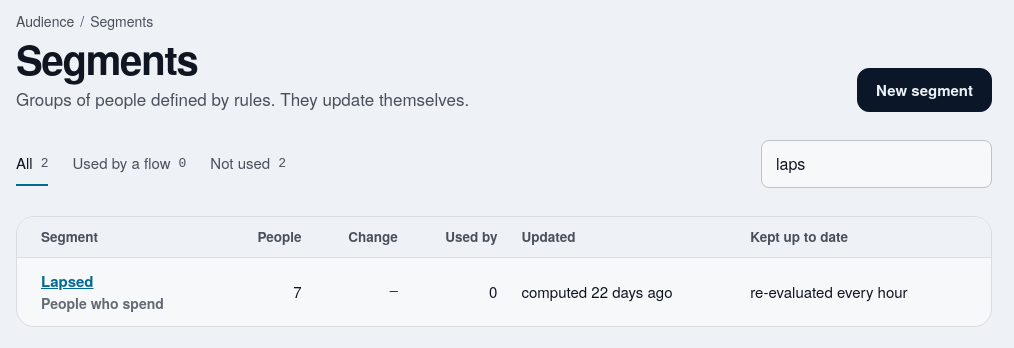
it: segments list › filters by the search term in the URL and says when nothing matches
Expected: the number of rows is 2, left=17, top=217, right=991, bottom=257; left=17, top=258, right=991, bottom=326
Step 1. Replace the text in the search field named "Search segments" with "zzz" → (876, 164), box left=761, top=140, right=992, bottom=188
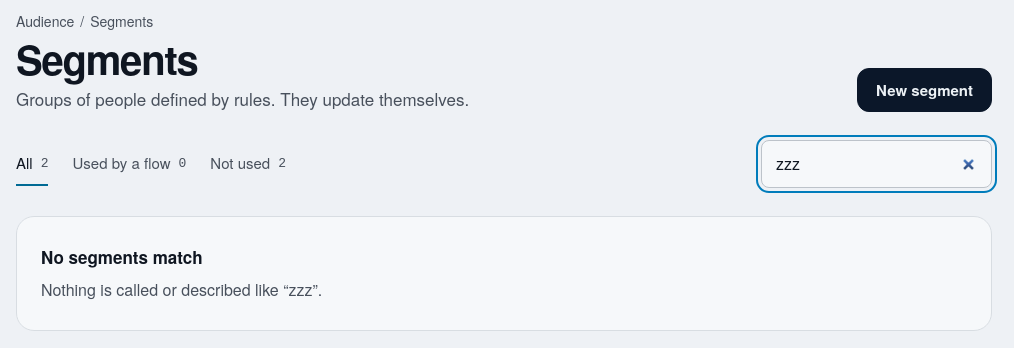
Expected: the text "No segments match" is shown, left=41, top=245, right=203, bottom=270
